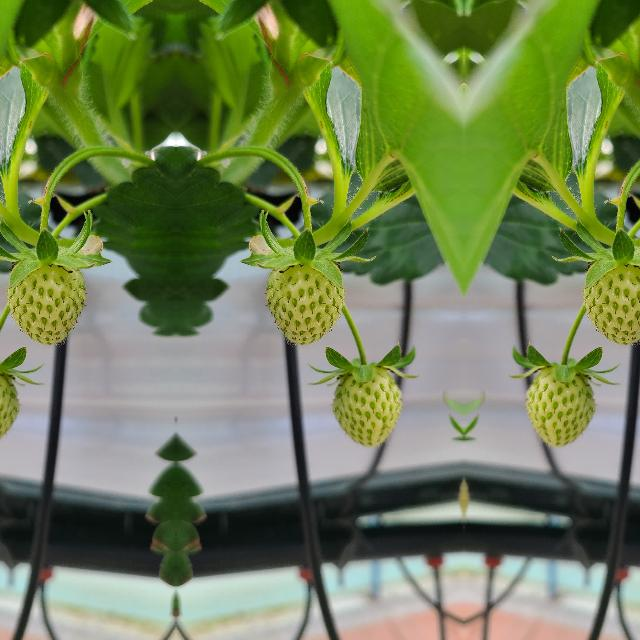Health_25: (264, 264, 344, 344), (6, 264, 86, 344), (330, 367, 402, 447), (524, 367, 596, 447), (582, 263, 640, 344), (0, 367, 20, 447)
